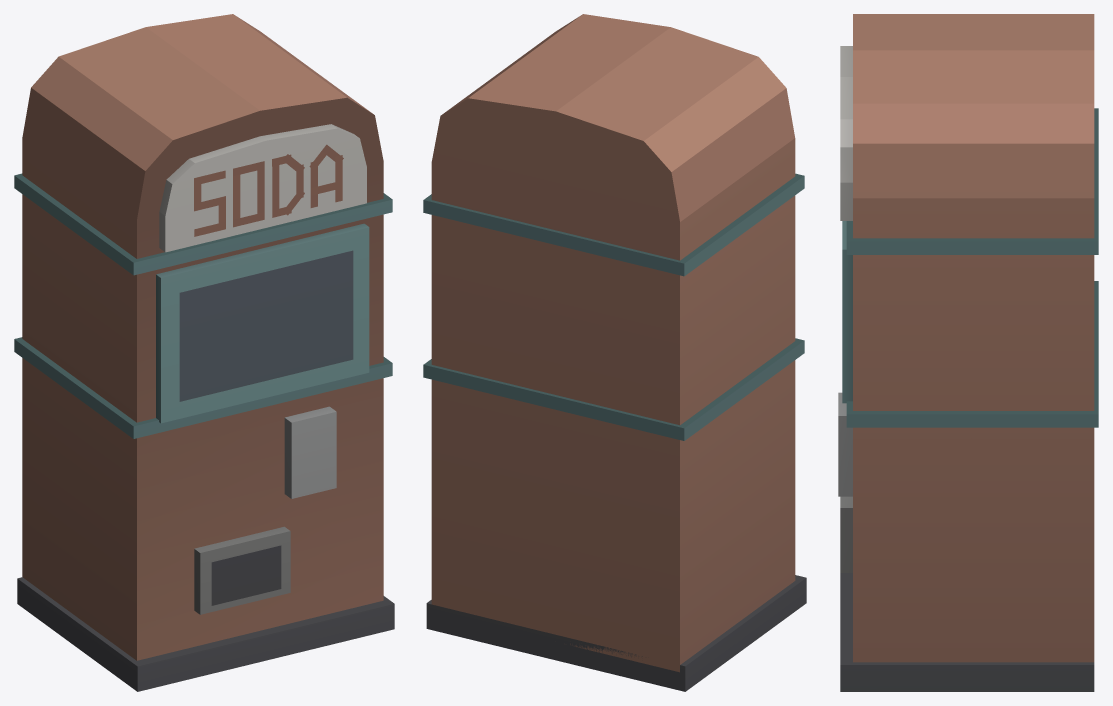
Rendered from soda.lod1.glb.
3 views of the same model, side by side, from view 1: azimuth 30°, elevation 25°; view 2: azimuth 150°, elevation 25°; view 3: azimuth 270°, elevation 25° (orthographic). The views are drawn at different scales.
Size of the model in its own units: 0.746 by 1.5 by 0.6216.
